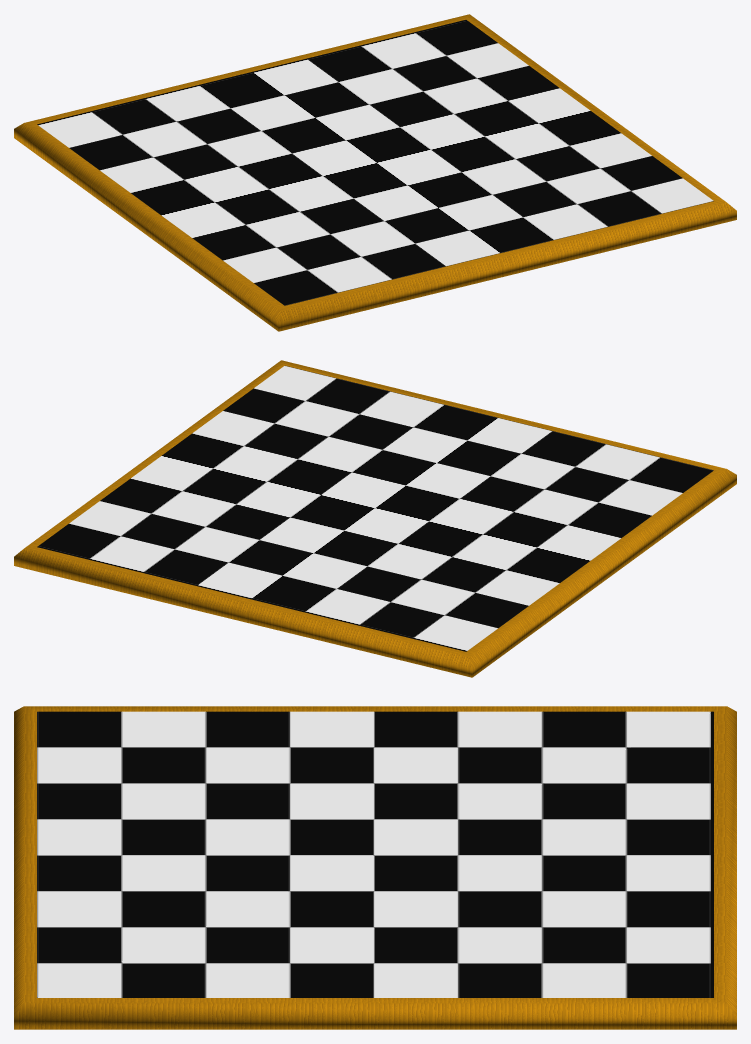
Rendered from Board.obj.
3 views of the same model, one above another, from view 1: azimuth 30°, elevation 25°; view 2: azimuth 150°, elevation 25°; view 3: azimuth 270°, elevation 25° (orthographic). The views are drawn at different scales.
Visible parts, largest first — view 1: 3DSMesh_1_0, 3DSMesh_0_0; view 2: 3DSMesh_1_0, 3DSMesh_0_0; view 3: 3DSMesh_1_0, 3DSMesh_0_0.
Part boxes in pixels (box(x1,y1,x2,y2)): 3DSMesh_1_0: box(37, 20, 713, 305); 3DSMesh_0_0: box(14, 14, 736, 331); 3DSMesh_1_0: box(37, 366, 713, 651); 3DSMesh_0_0: box(14, 360, 736, 677); 3DSMesh_1_0: box(37, 711, 713, 997); 3DSMesh_0_0: box(14, 706, 736, 1029).
Bounding box in the file's own units: 107 × 3.62 × 107.
2 materials, 2 textured.
